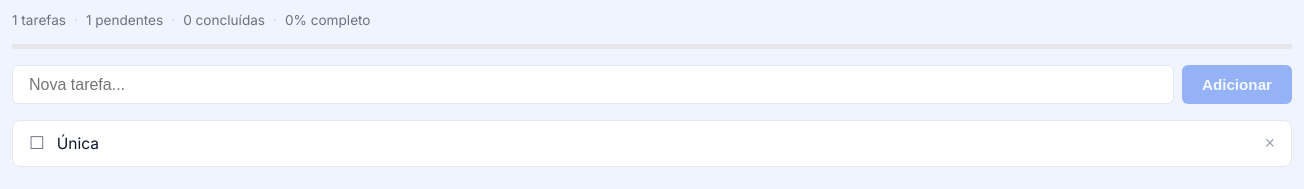
Test: ListaDeTarefas — remover tarefa › exibe mensagem vazia ao remover última tarefa
This screenshot has width=1304, height=189.
What coordinates should you click on to do the following:
click the button with test id "remover-1"
I would click on:
 (1270, 144)
Its box is [1265,135,1275,152].
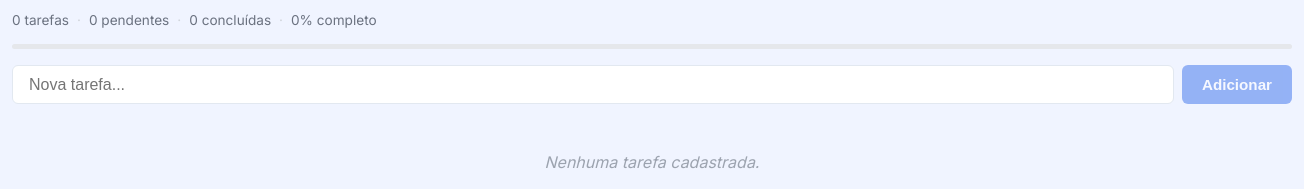
Expected: the text "Nenhuma tarefa cadastrada." is shown, [544,152,759,172]
